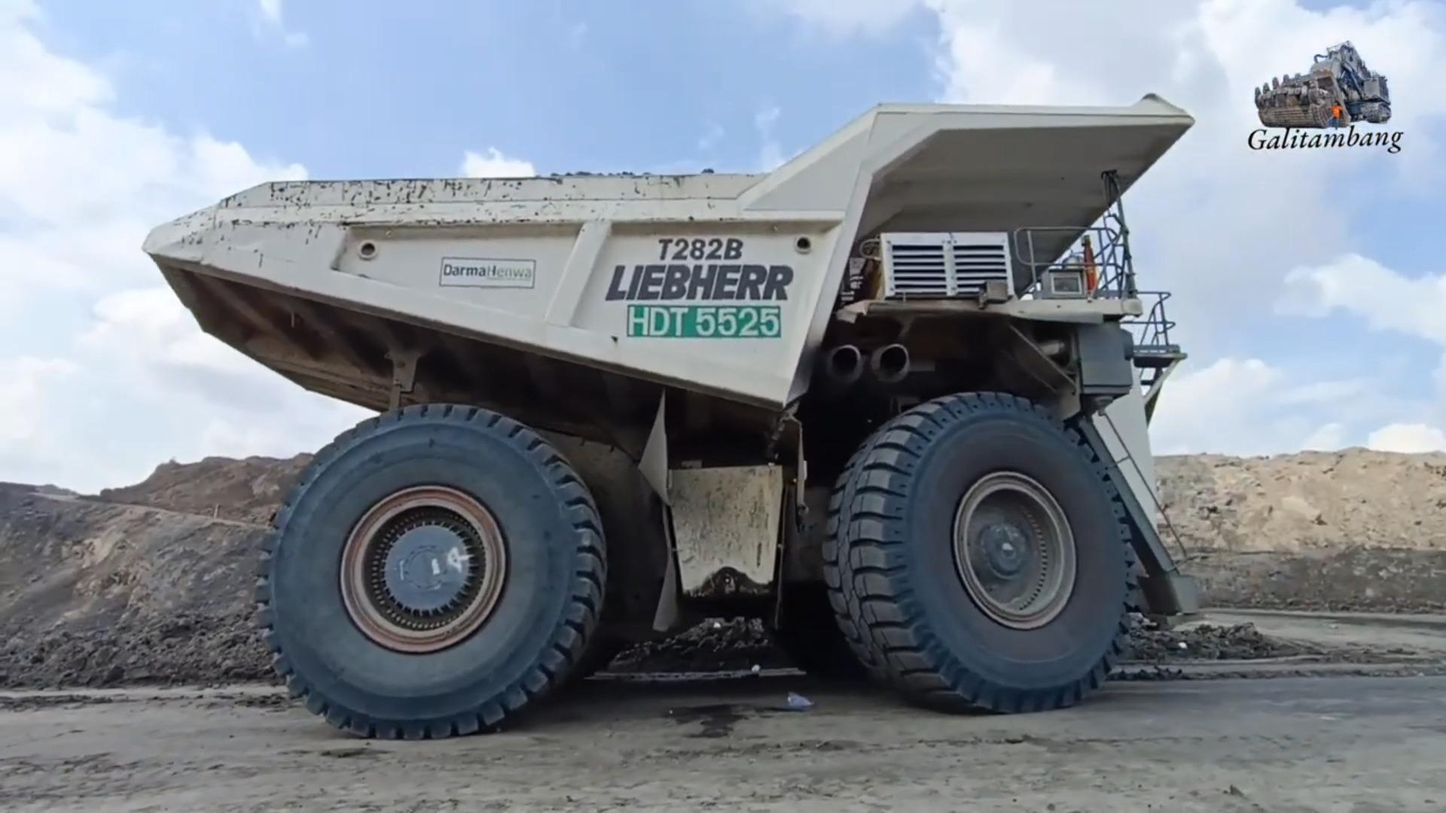HD-Truck: (142, 94, 1197, 738)
